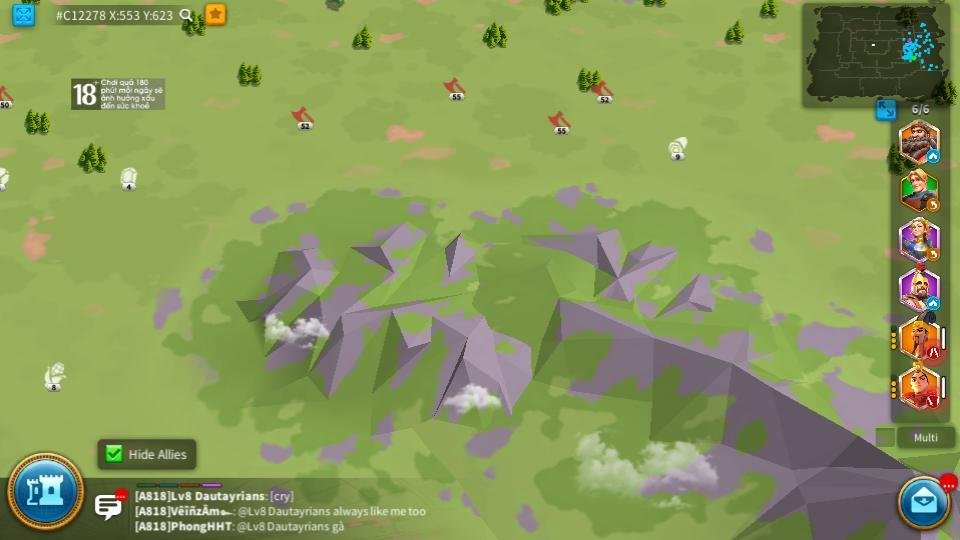gem-z-out: (117, 167, 139, 188), (0, 167, 10, 190)
march_attacking: (923, 395, 939, 407), (924, 348, 938, 359)
march_idle: (925, 151, 938, 162), (925, 297, 938, 307)
march_returning: (926, 248, 941, 260), (927, 201, 940, 212)
